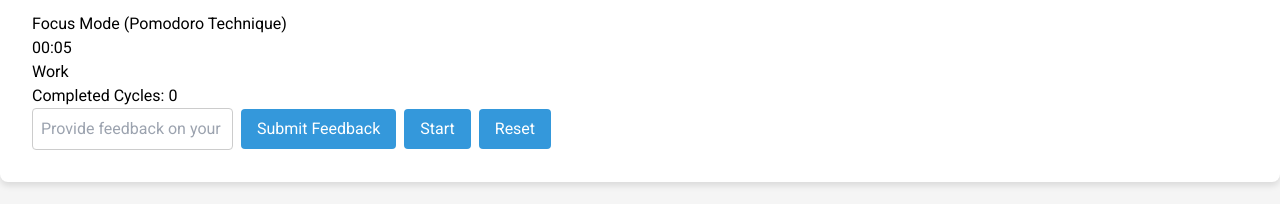
Test: FocusMode › switches to break after work session
Click the button "Start" at (438,129), box [404,109,471,149]
Wait 5000 ms
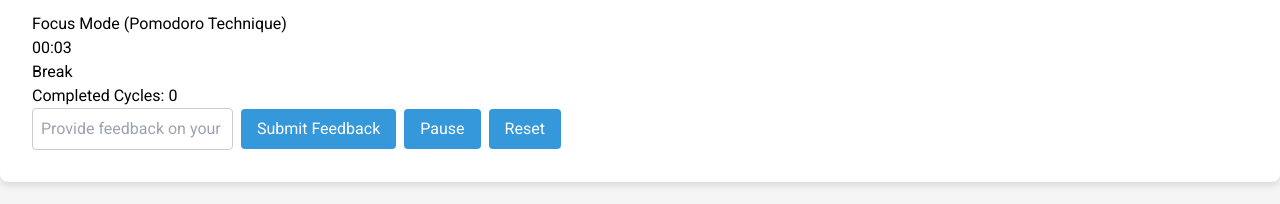
Expected: the text "Break" is shown, [32,62,72,81]
Expected: the text "00:03" is shown, [32,38,72,57]
